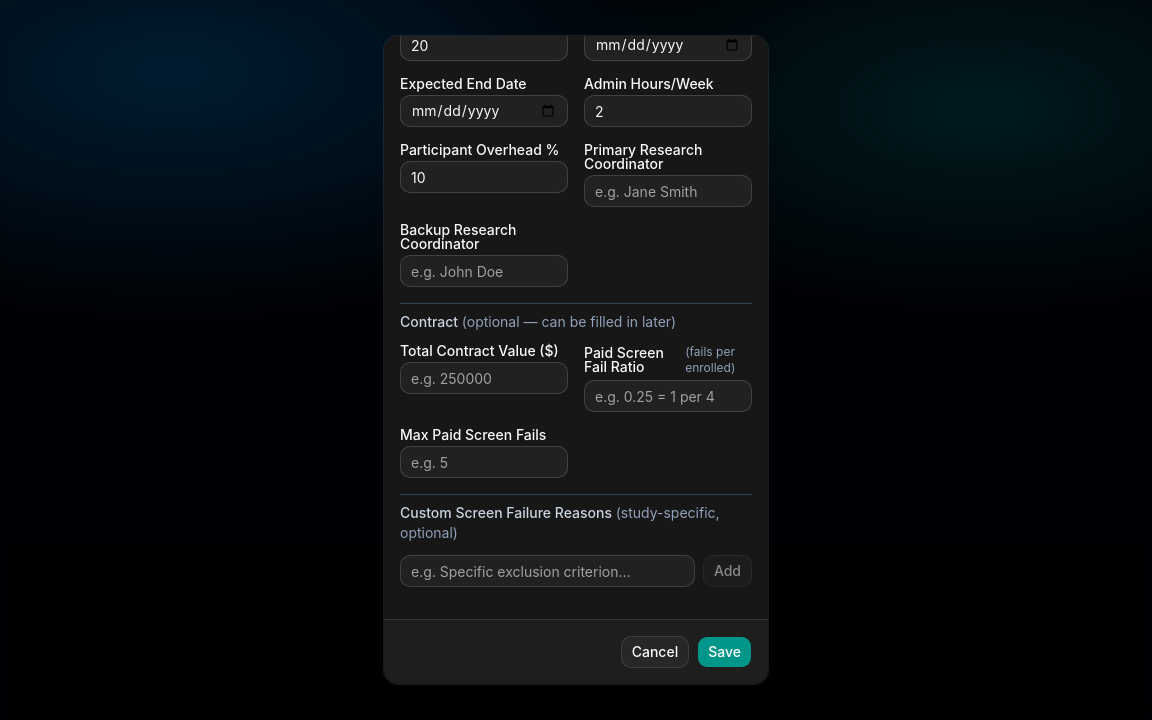
StudyForm › shows validation error when name is empty on submit
(page scrolled)
What coordinates should you click on to do the following:
click the button "Save"
I would click on:
 (725, 652)
Its box is left=697, top=636, right=752, bottom=668.
(page scrolled)
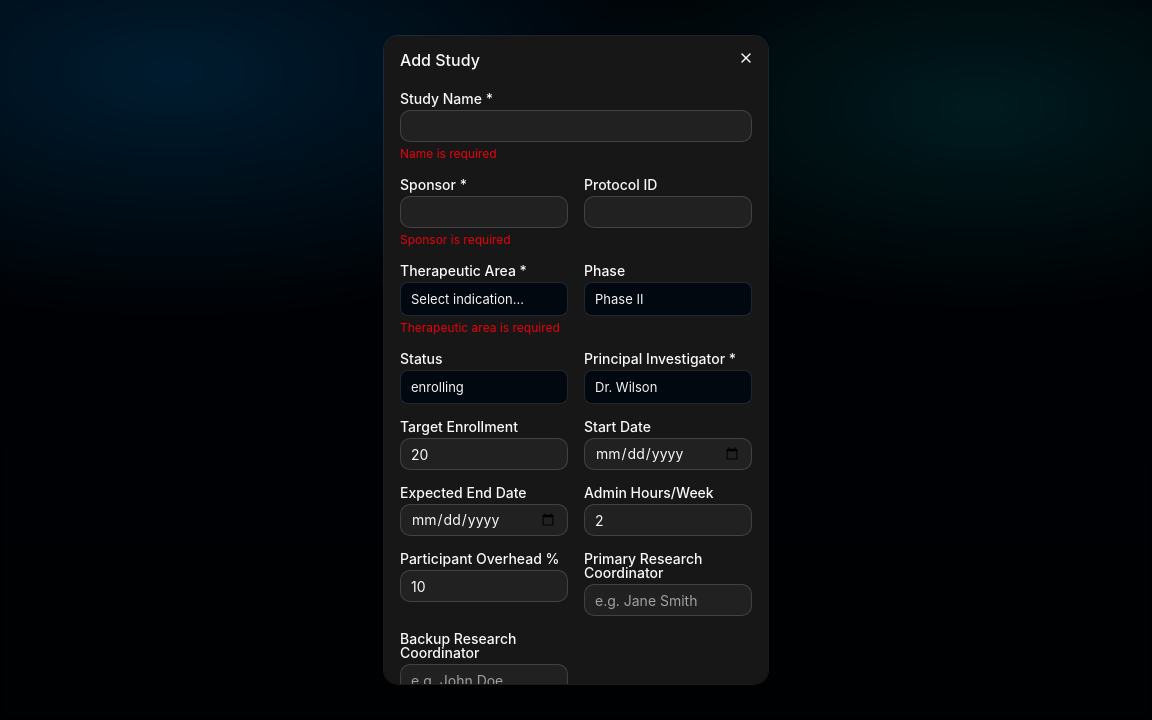
Expected: the text "Name is required" is shown, left=400, top=146, right=497, bottom=161
